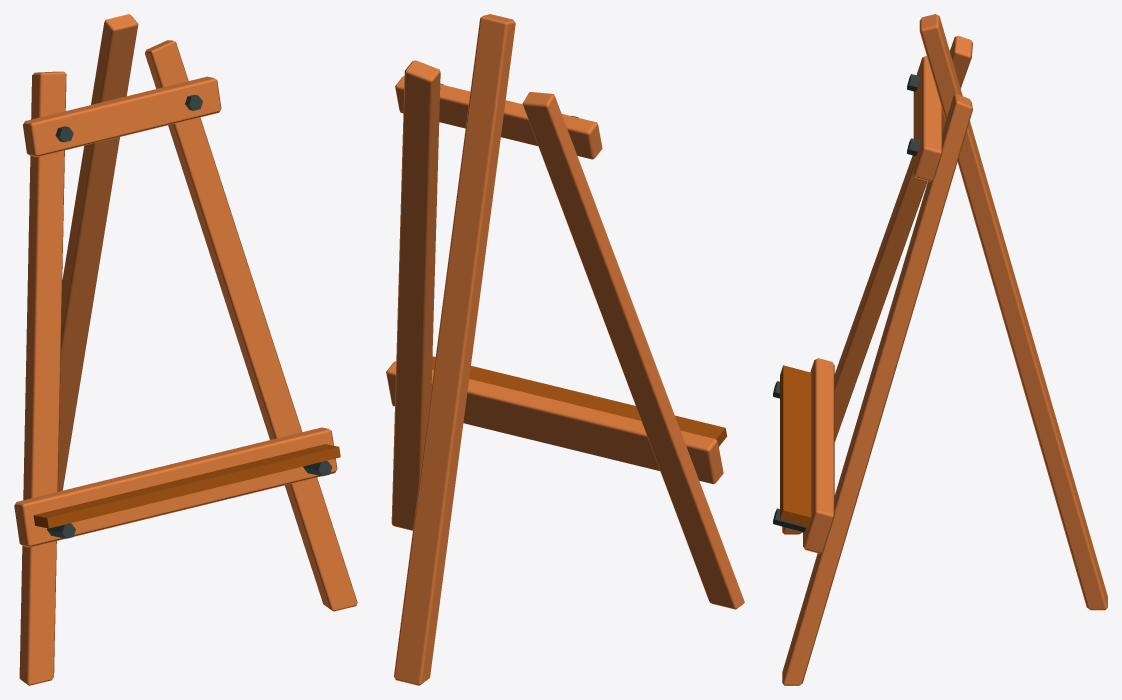
The model's file is Easel.fbx.
3 renders of one model, left to right at view 1: azimuth 30°, elevation 25°; view 2: azimuth 150°, elevation 25°; view 3: azimuth 270°, elevation 25°, orthographic. The views are drawn at different scales.
Visible parts, largest first — view 1: Easel; view 2: Easel; view 3: Easel.
Boxes of the visible parts, left/top/right/bottom form: Easel: left=14, top=14, right=357, bottom=685; Easel: left=386, top=14, right=744, bottom=685; Easel: left=773, top=14, right=1107, bottom=685.
Bounding box in the file's own units: 117 × 101 × 194.
Materials: 1 (1 with a texture image).
